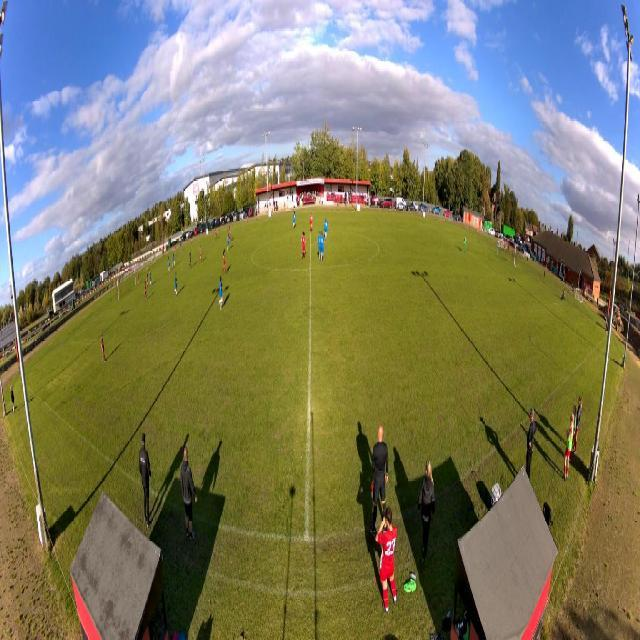ball: (210, 232, 211, 236)
player: (301, 231, 307, 260), (320, 231, 325, 262), (101, 333, 106, 363), (219, 275, 223, 311), (317, 230, 321, 261), (222, 248, 226, 275), (174, 271, 178, 297), (324, 218, 328, 240), (309, 213, 313, 234), (143, 281, 147, 302), (227, 233, 231, 251), (463, 234, 466, 254), (199, 244, 202, 264), (146, 270, 149, 289), (293, 211, 296, 229), (149, 270, 152, 288), (172, 251, 175, 268), (229, 226, 232, 242), (190, 250, 192, 269), (168, 256, 170, 272), (138, 271, 140, 286), (174, 244, 176, 258), (180, 239, 182, 253), (215, 226, 217, 240)
